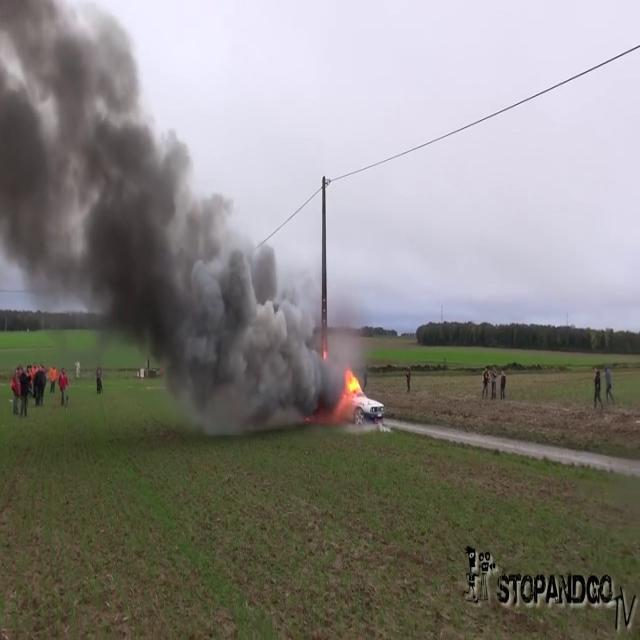Fire: (338, 358, 366, 406)
Smoke: (0, 8, 322, 416)
